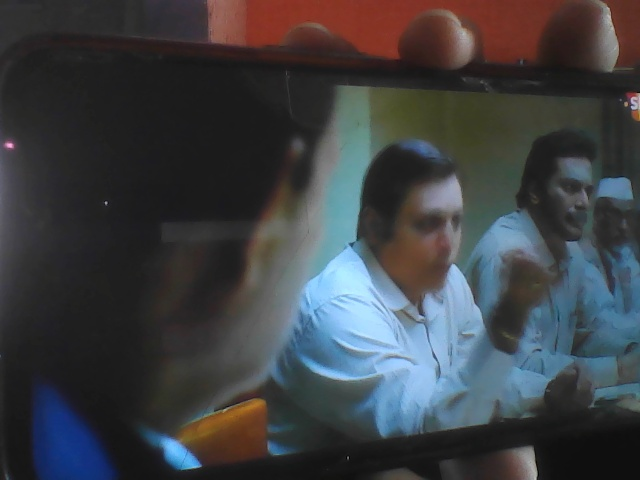fake: (368, 141, 477, 295)
